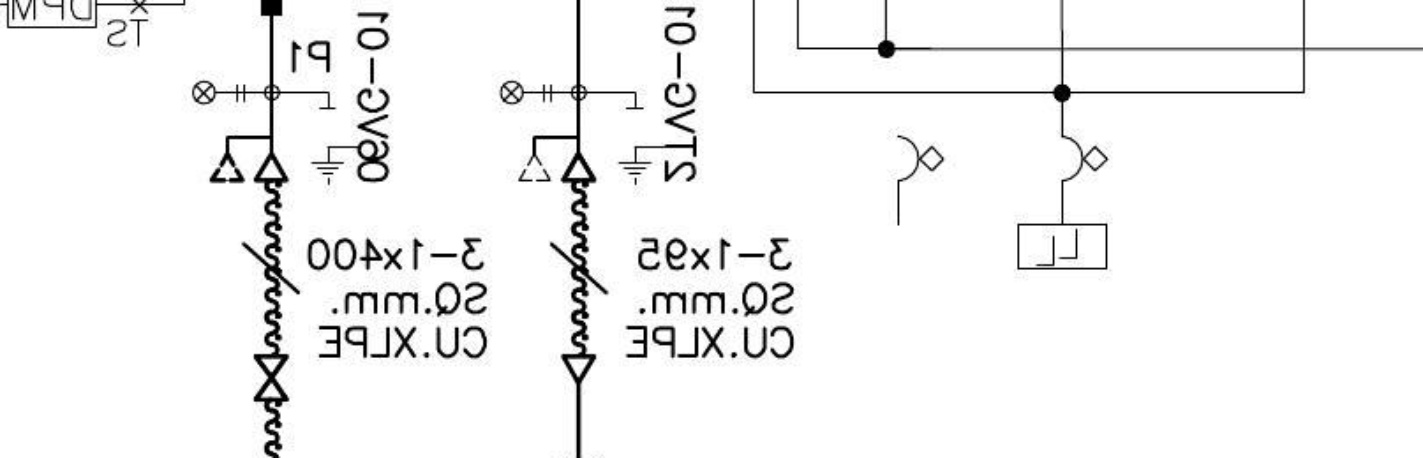22_gs: (618, 106, 667, 187), (310, 106, 359, 187)
22_ll: (499, 79, 554, 106), (191, 79, 246, 106)
LL: (1015, 221, 1110, 272)
terminator_single: (557, 352, 597, 386)
terminator_splicing_kits: (253, 354, 290, 403)
terminator_w_future: (209, 133, 292, 185), (515, 132, 598, 183)
